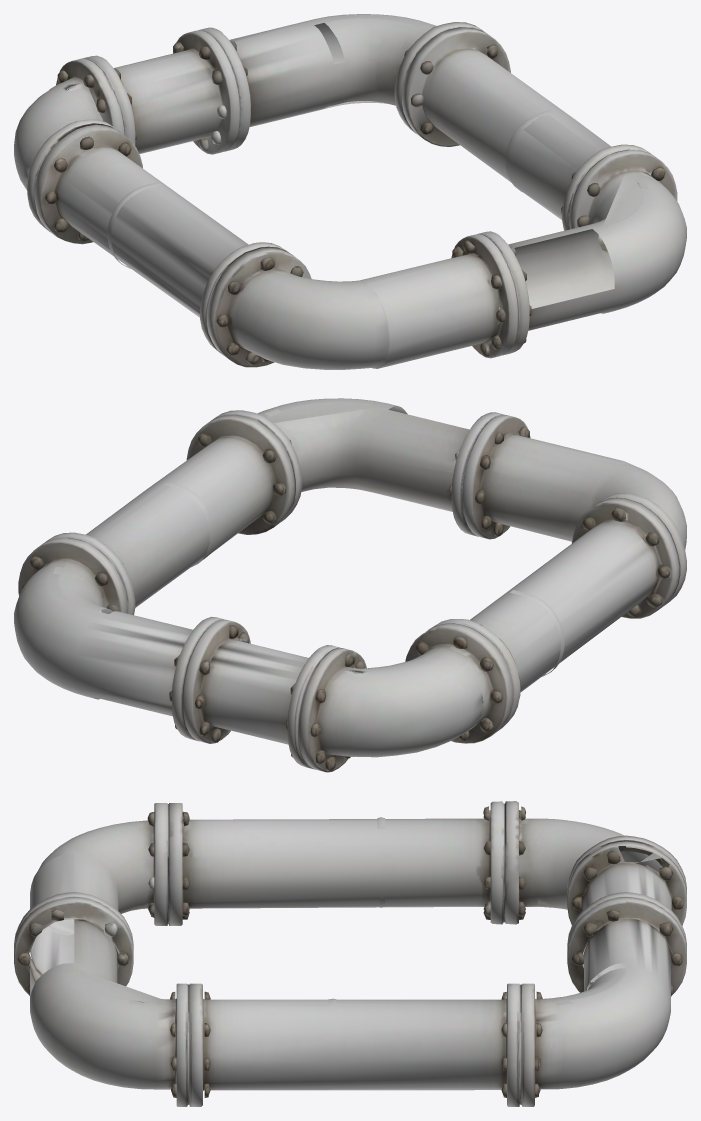
File: l-shaped_industrial_pipe_f7fd8524_v4.glb
3 views of the same model, one above another, from view 1: azimuth 30°, elevation 25°; view 2: azimuth 150°, elevation 25°; view 3: azimuth 270°, elevation 25° (orthographic).
Parts seen in each view (by area): view 1: material; view 2: material; view 3: material.
Part boxes in pixels (left/top/right/bottom): material: left=14, top=14, right=686, bottom=369; material: left=14, top=398, right=686, bottom=772; material: left=14, top=801, right=686, bottom=1106.
Size of the model in its own units: 1.55 by 0.3535 by 1.9.
Materials: 1 (1 with a texture image).
